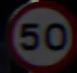Speed limit: (8, 4, 71, 62)
